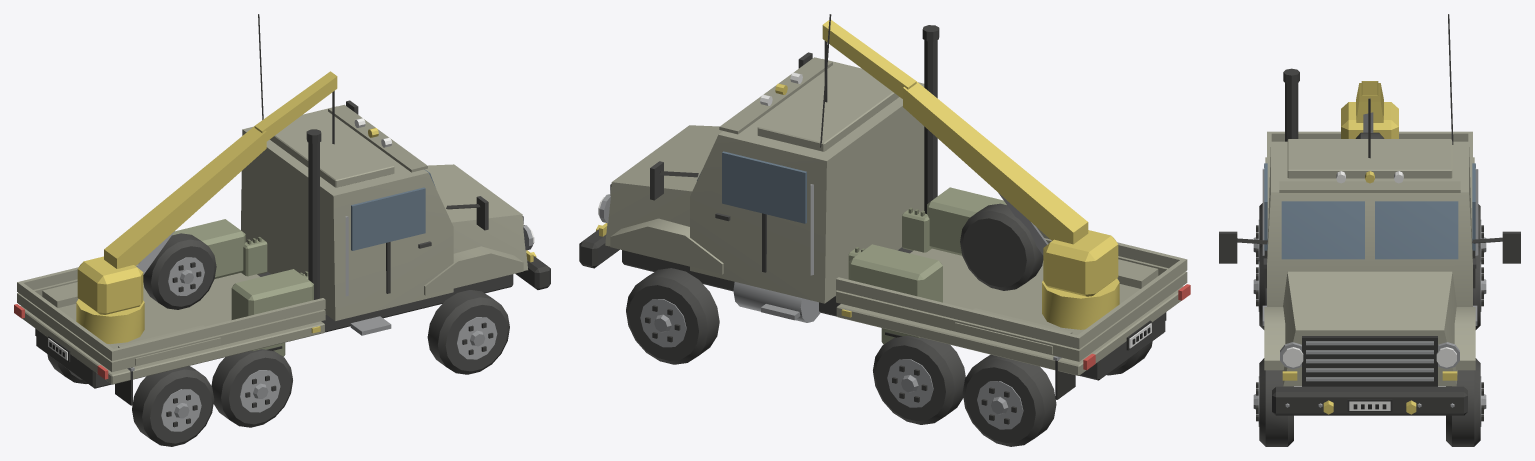
File: mech.glb
The picture shows the model from 3 angles, left to right: view 1: azimuth 30°, elevation 25°; view 2: azimuth 150°, elevation 25°; view 3: azimuth 270°, elevation 25°; orthographic projection. The views are drawn at different scales.
Visible parts, largest first — view 1: hull; view 2: hull; view 3: hull.
Part boxes in pixels (x1,y1,x2,y2): hull: (14,14,550,446); hull: (579,14,1190,446); hull: (1219,14,1520,446).
Bounding box in the file's own units: 6.97 × 4.79 × 3.66.
